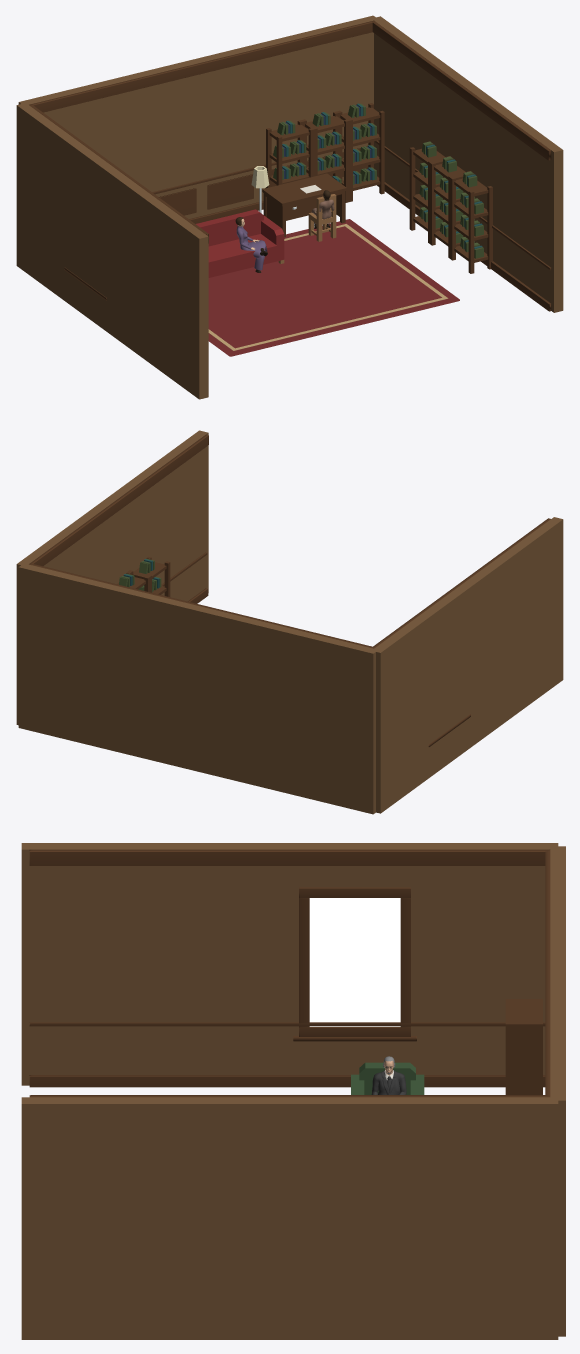
Rendered from berggasse.glb.
The picture shows the model from 3 angles, top to bottom: view 1: azimuth 30°, elevation 25°; view 2: azimuth 150°, elevation 25°; view 3: azimuth 270°, elevation 25°; orthographic projection. The views are drawn at different scales.
Parts seen in each view (by area): view 1: wall_left, wall_back, wall_right, box.026, box.006, loungeSofa(Clone).001, desk(Clone).001, box.024, box.008, bookcaseOpen(Clone).006, bookcaseOpen(Clone).003, bookcaseOpen(Clone).001 (+11 smaller); view 2: wall_back, wall_left, wall_right, box.008, box.006, box.007, bookcaseOpen(Clone).006; view 3: wall_right, wall_left, pane, box.007, wall_back, box.001, bookcaseClosedDoors(Clone).001, box.004, box.008, box.006, box.017, box.018 (+5 smaller).
Part boxes in pixels (x1,y1,x2,y2): wall_left: (16, 104, 208, 399); wall_back: (18, 15, 377, 218); wall_right: (373, 16, 563, 312); box.026: (208, 226, 441, 348); box.006: (29, 20, 373, 112); loungeSofa(Clone).001: (196, 209, 284, 277); desk(Clone).001: (262, 173, 346, 237); box.024: (208, 219, 459, 356); box.008: (372, 21, 551, 160); bookcaseOpen(Clone).006: (450, 173, 492, 273); bookcaseOpen(Clone).003: (337, 103, 384, 201); bookcaseOpen(Clone).001: (266, 120, 313, 188); wall_back: (18, 564, 377, 814); wall_left: (372, 517, 563, 813); wall_right: (16, 430, 208, 725); box.008: (29, 435, 208, 565); box.006: (29, 564, 373, 648); box.007: (373, 518, 550, 648); bookcaseOpen(Clone).006: (128, 556, 170, 596); wall_right: (21, 1097, 558, 1339); wall_left: (21, 843, 558, 1085); pane: (309, 898, 400, 1026); box.007: (29, 849, 549, 865); wall_back: (550, 846, 565, 1336); box.001: (29, 1075, 545, 1087); bookcaseClosedDoors(Clone).001: (505, 999, 542, 1094); box.004: (29, 1022, 545, 1026); box.008: (29, 1095, 549, 1097); box.006: (545, 850, 550, 1096); box.017: (400, 898, 410, 1027); box.018: (299, 898, 309, 1027).
Size of what is drawn, in the model's own units: 9.49 by 4.09 by 8.48.
